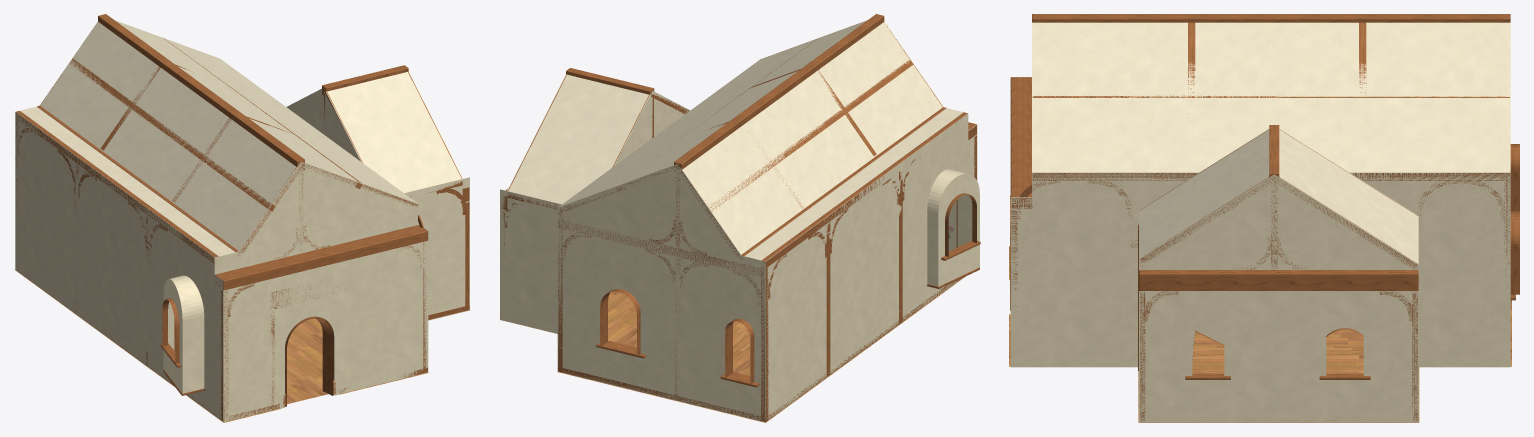
File: house_g_lining.glb
3 renders of one model, left to right at view 1: azimuth 30°, elevation 25°; view 2: azimuth 150°, elevation 25°; view 3: azimuth 270°, elevation 25°, orthographic. The views are drawn at different scales.
Visible parts, largest first — view 1: Architecture_Plaster, Architecture_Ceiling, Architecture_Timber, Architecture_Floor; view 2: Architecture_Plaster, Architecture_Ceiling, Architecture_Timber, Architecture_Floor; view 3: Architecture_Plaster, Architecture_Ceiling, Architecture_Timber, Architecture_Floor.
Part boxes in pixels (x1,y1,x2,y2): Architecture_Plaster: [15, 88, 469, 422]; Architecture_Ceiling: [20, 20, 462, 257]; Architecture_Timber: [15, 14, 469, 421]; Architecture_Floor: [14, 269, 470, 422]; Architecture_Plaster: [500, 90, 979, 422]; Architecture_Ceiling: [507, 20, 963, 261]; Architecture_Timber: [500, 14, 980, 421]; Architecture_Floor: [500, 276, 965, 422]; Architecture_Plaster: [1010, 77, 1510, 422]; Architecture_Ceiling: [1032, 22, 1510, 264]; Architecture_Timber: [1010, 14, 1519, 421]; Architecture_Floor: [1009, 246, 1511, 422].
Size of what is drawn, in the model's own units: 7.95 by 5.45 by 8.95.
6 materials, 6 textured.
